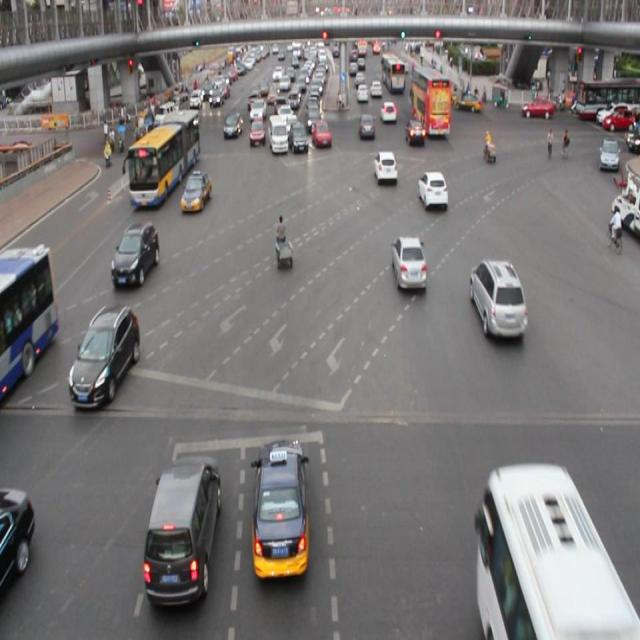car: (250, 439, 314, 580), (70, 301, 140, 408), (468, 257, 526, 340), (1, 486, 32, 594), (112, 222, 159, 286), (391, 233, 426, 293), (179, 169, 210, 214), (416, 169, 446, 211), (373, 150, 396, 184), (310, 117, 332, 151), (289, 120, 309, 155), (404, 115, 424, 146), (248, 115, 266, 148), (224, 111, 244, 139), (358, 111, 375, 141), (379, 100, 398, 125)
truck: (143, 452, 222, 609), (267, 112, 289, 156)
van: (478, 463, 640, 640), (1, 245, 55, 397), (129, 109, 200, 205), (411, 66, 450, 135)
